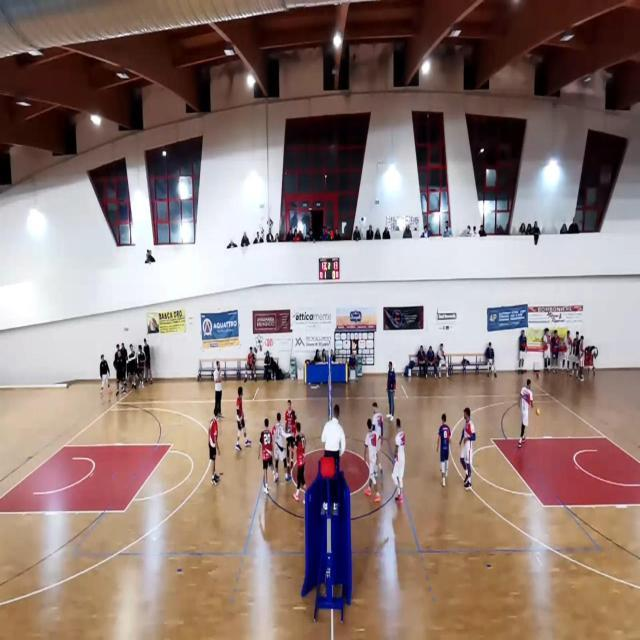volleyball: (536, 408, 542, 416)
